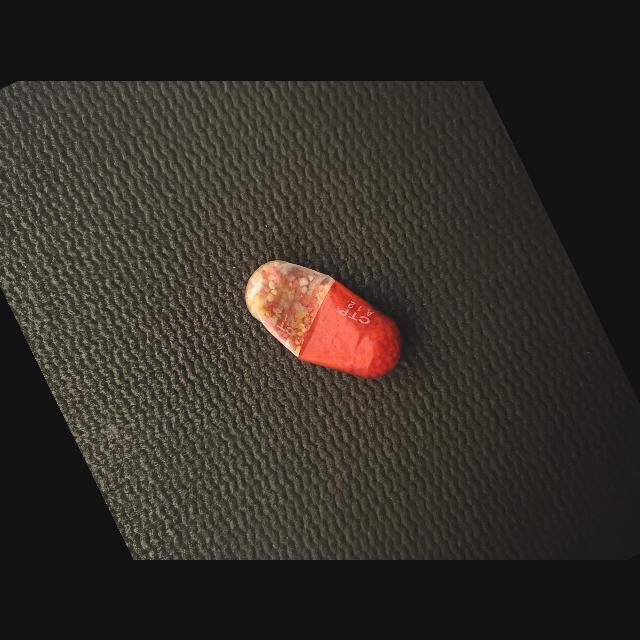Defective Capsule: (245, 259, 402, 378)
